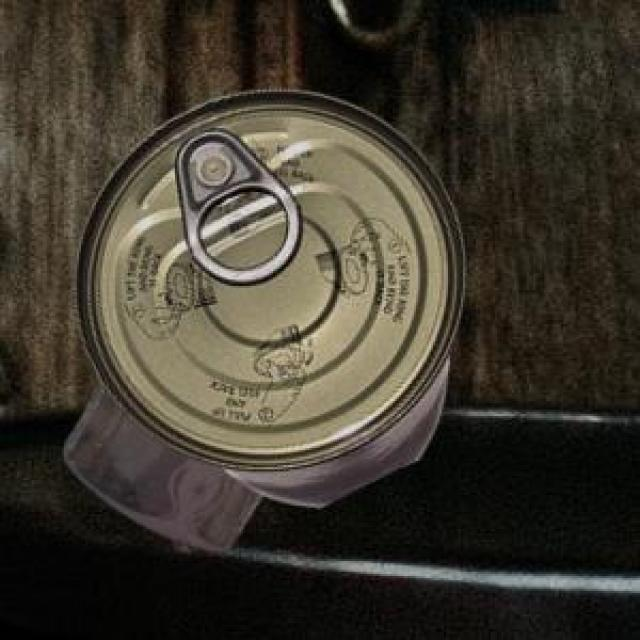Can: (74, 86, 462, 502), (61, 379, 259, 549)
